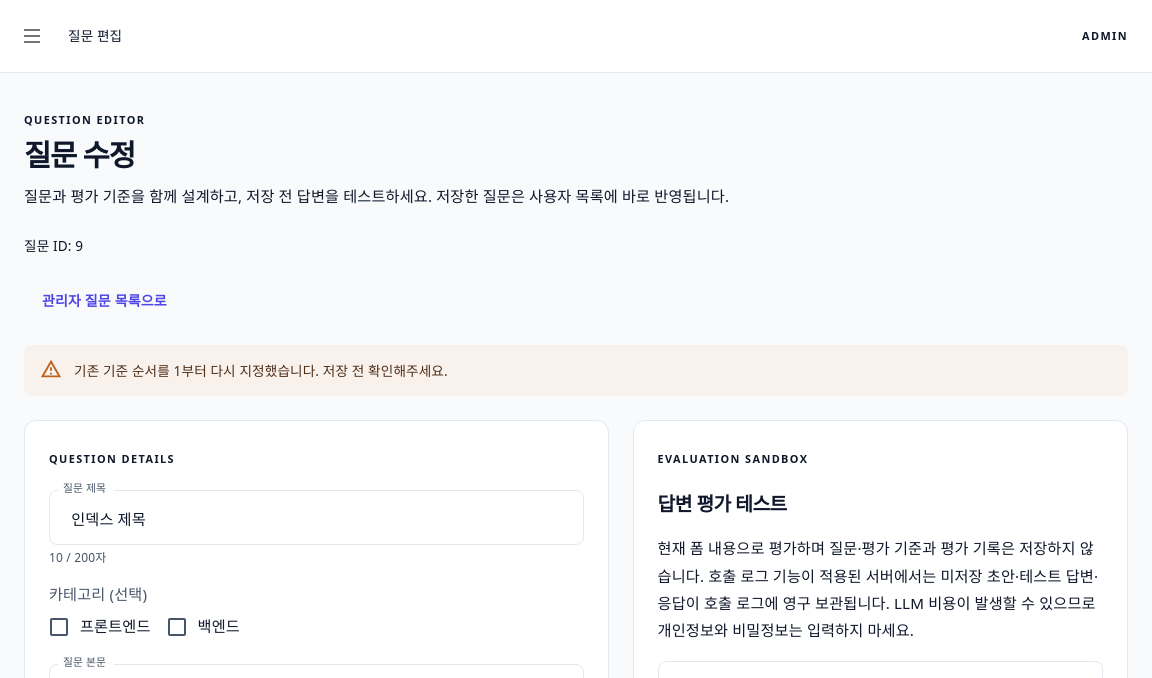
Scenario: normalizes ALL legacy orders after sorting if any order is nonpositive and warns about unsaved repair
Expected: the message shows "순서를 1부터 다시 지정했습니다", top-left (74, 361), bottom-right (448, 380)
Click the link "관리자 질문 목록으로" at (104, 301), box top-left (42, 291), bottom-right (167, 310)
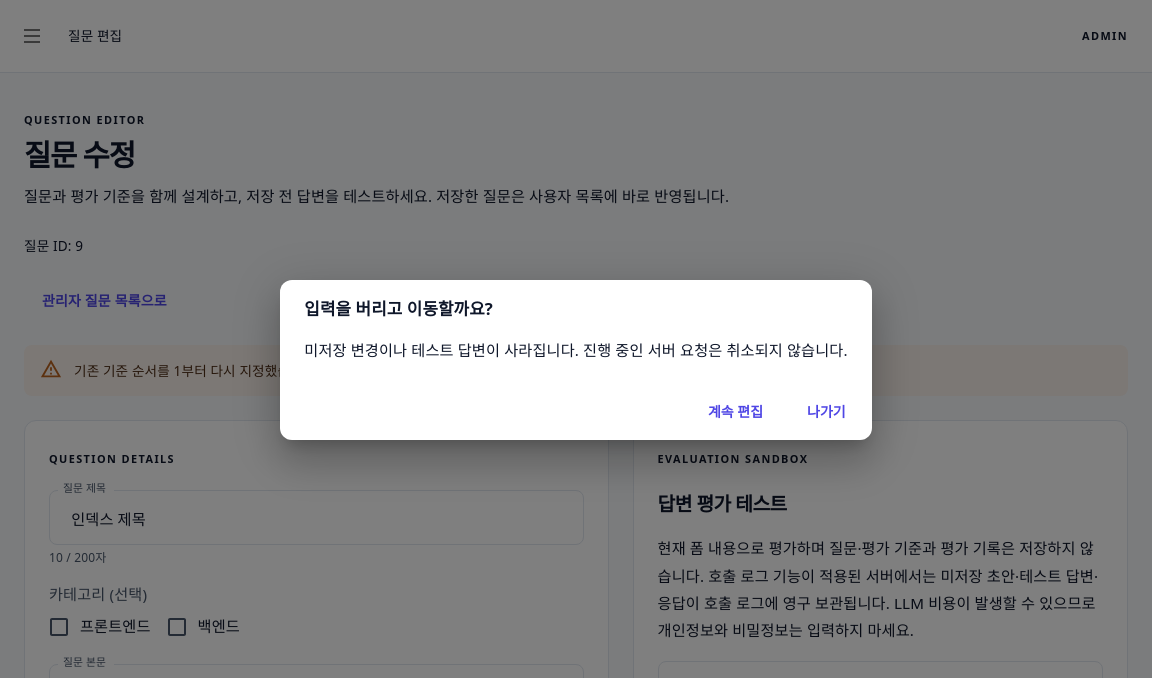
Expected: the dialog "입력을 버리고 이동할까요?" is shown, top-left (280, 280), bottom-right (872, 440)
